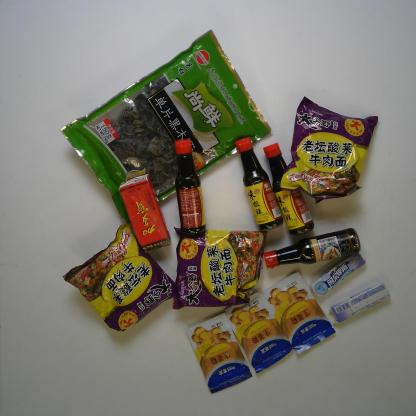Candy: (310, 252, 366, 298), (331, 282, 391, 322)
Dried Food: (58, 27, 272, 227)
Drink: (118, 173, 172, 254)
Instant Noodles: (61, 222, 179, 333), (278, 95, 378, 205), (171, 225, 268, 310)
Seasoner: (262, 271, 336, 357), (223, 292, 294, 375), (186, 312, 253, 395), (263, 142, 315, 237), (235, 136, 284, 232), (263, 228, 361, 270), (174, 139, 206, 235)
